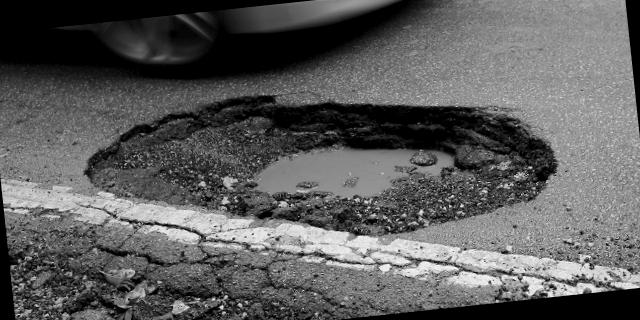Pothole: (80, 53, 554, 280)
